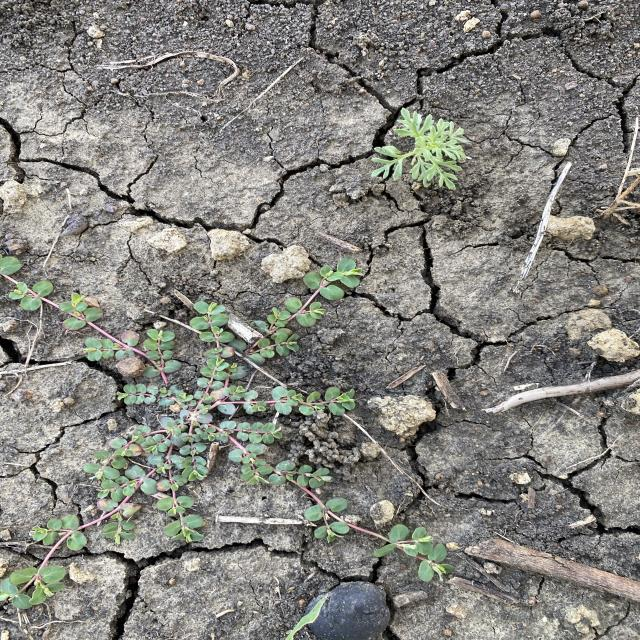Ragweed: (369, 106, 471, 192)
SpottedSpurge: (0, 255, 458, 612)
